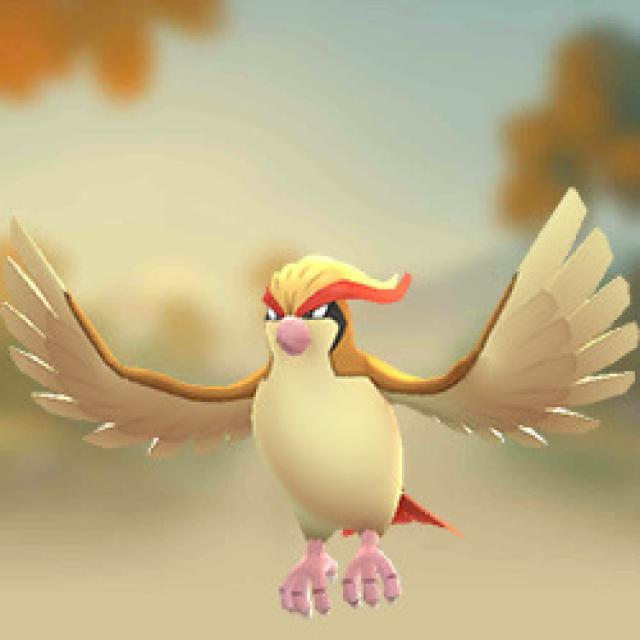Pidgeot: (89, 249, 570, 601)
